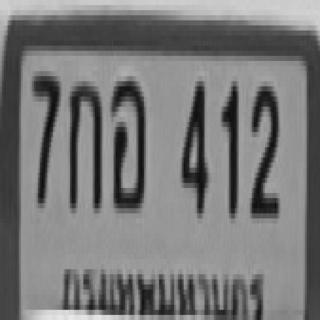A01: (66, 76, 100, 208)
A43: (110, 74, 144, 206)
N01: (220, 74, 237, 211)
N02: (248, 81, 276, 213)
N04: (180, 74, 206, 211)
N07: (30, 68, 59, 200)
P04: (58, 258, 269, 320)
